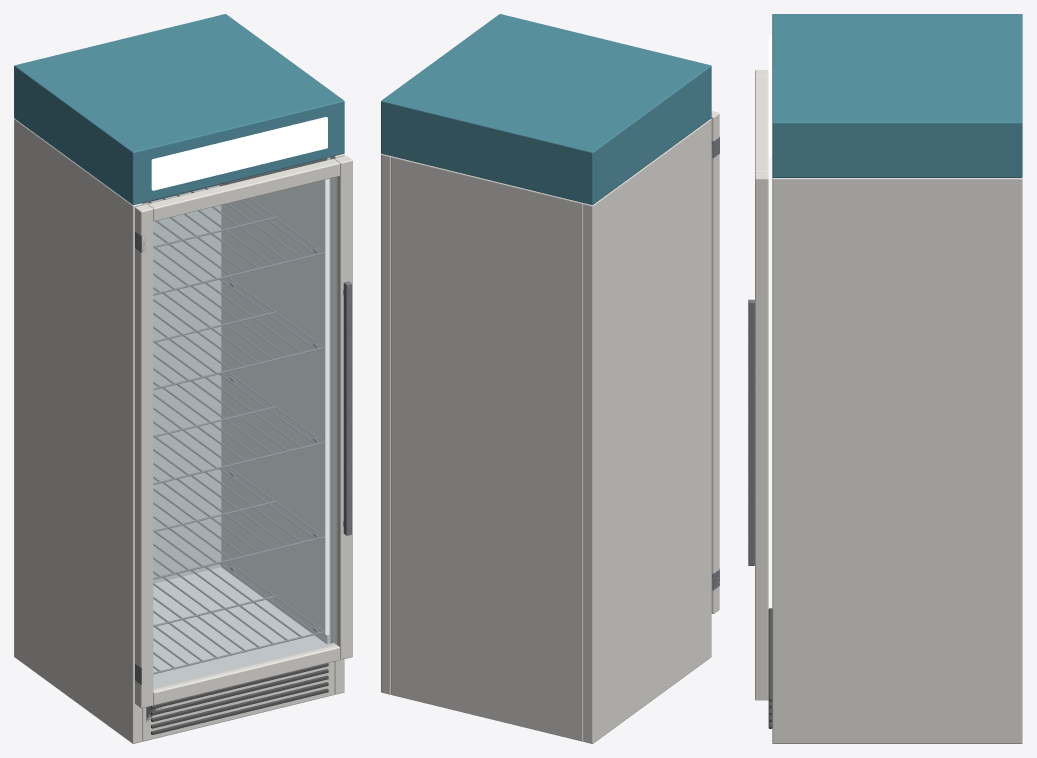
File: upright_freezer_glass.glb
3 views of the same model, side by side, from view 1: azimuth 30°, elevation 25°; view 2: azimuth 150°, elevation 25°; view 3: azimuth 270°, elevation 25° (orthographic). The views are drawn at different scales.
Parts seen in each view (by area): view 1: upright_freezer_glass.001, door; view 2: upright_freezer_glass.001, door; view 3: upright_freezer_glass.001, door.
Boxes of the visible parts, left/top/right/bottom form: upright_freezer_glass.001: left=14, top=14, right=344, bottom=743; door: left=135, top=155, right=352, bottom=708; upright_freezer_glass.001: left=381, top=14, right=711, bottom=743; door: left=711, top=111, right=719, bottom=613; upright_freezer_glass.001: left=768, top=14, right=1022, bottom=743; door: left=748, top=70, right=768, bottom=700.
Size of what is drawn, in the model's own units: 0.75 by 2 by 0.8.
Materials: 7 (1 with a texture image).
